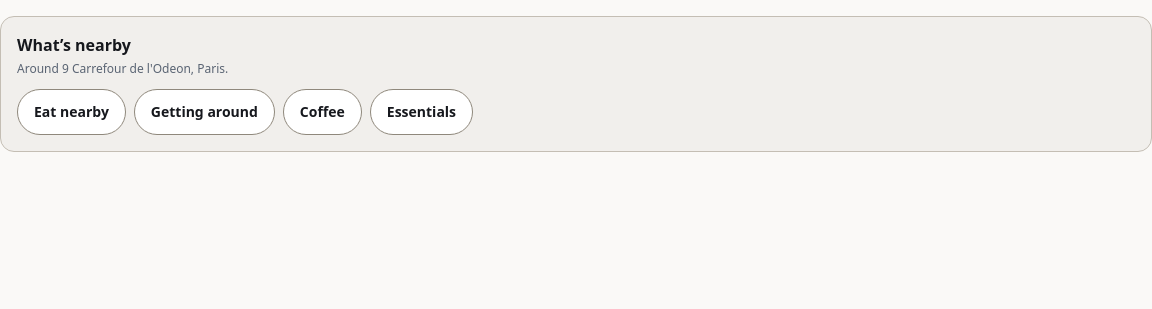
Test: what is nearby › sends the intent belonging to the chip that was pressed
The width and height of the screenshot is (1152, 309).
Click the button "Getting around" at point(204, 112), box [134,89,275,135]
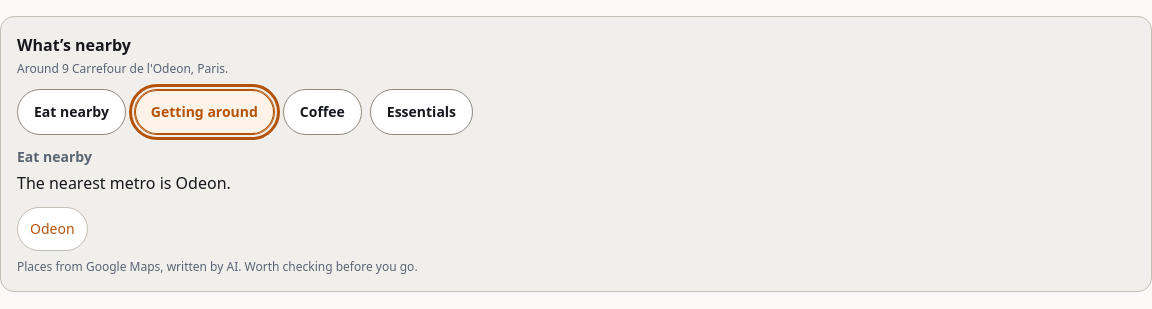
Expected: the text "The nearest metro is Odeon." is shown, [17,172,231,194]
